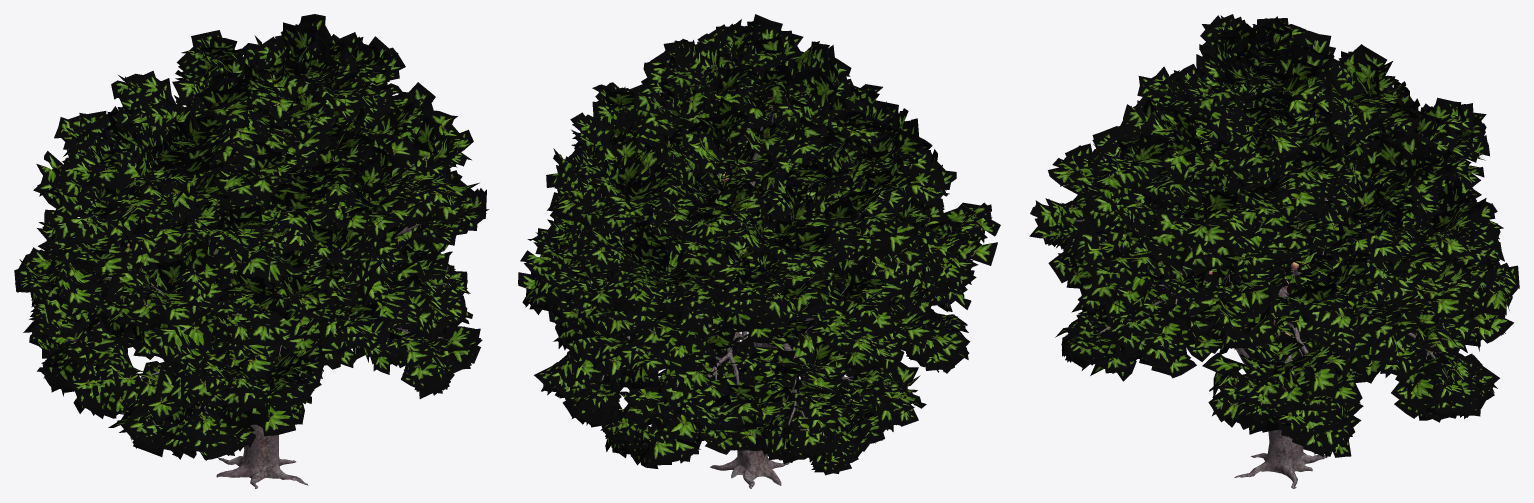
Rendered from mango_tree.glb.
3 renders of one model, left to right at view 1: azimuth 30°, elevation 25°; view 2: azimuth 150°, elevation 25°; view 3: azimuth 270°, elevation 25°, orthographic. The views are drawn at different scales.
Visible parts, largest first — view 1: leaves_Material.001_0, tree_Material.002_0; view 2: leaves_Material.001_0, tree_Material.002_0; view 3: leaves_Material.001_0, tree_Material.002_0.
Boxes of the visible parts, <box> form: leaves_Material.001_0: <box>14,14,489,460</box>; tree_Material.002_0: <box>49,66,449,488</box>; leaves_Material.001_0: <box>518,14,1000,475</box>; tree_Material.002_0: <box>601,62,907,488</box>; leaves_Material.001_0: <box>1029,14,1519,457</box>; tree_Material.002_0: <box>1069,92,1449,488</box>.
Bounding box in the file's own units: 6.69 × 6.86 × 6.76.
Materials: 3 (3 with a texture image).
